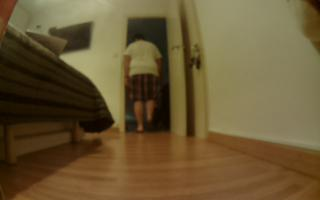person: (120, 32, 165, 135)
